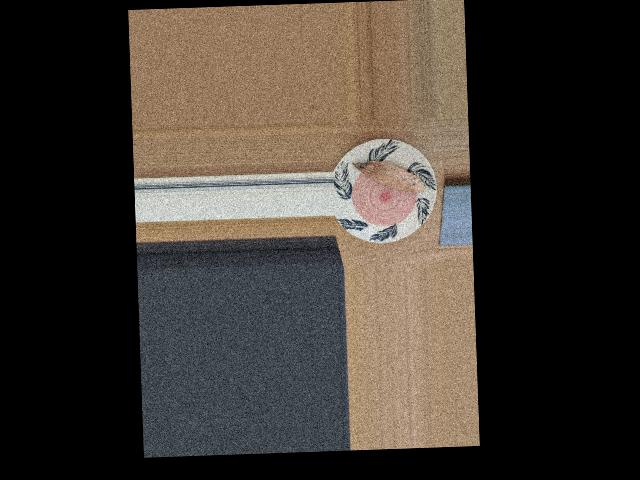sweet_potato: (359, 158, 420, 197)
